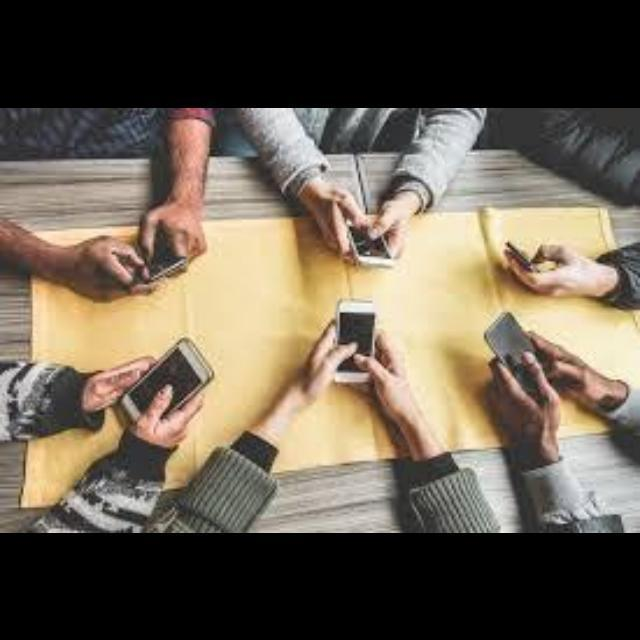phone: (97, 335, 240, 439), (469, 303, 567, 412), (316, 206, 419, 291), (121, 225, 209, 310), (329, 293, 387, 404), (499, 237, 565, 290)
